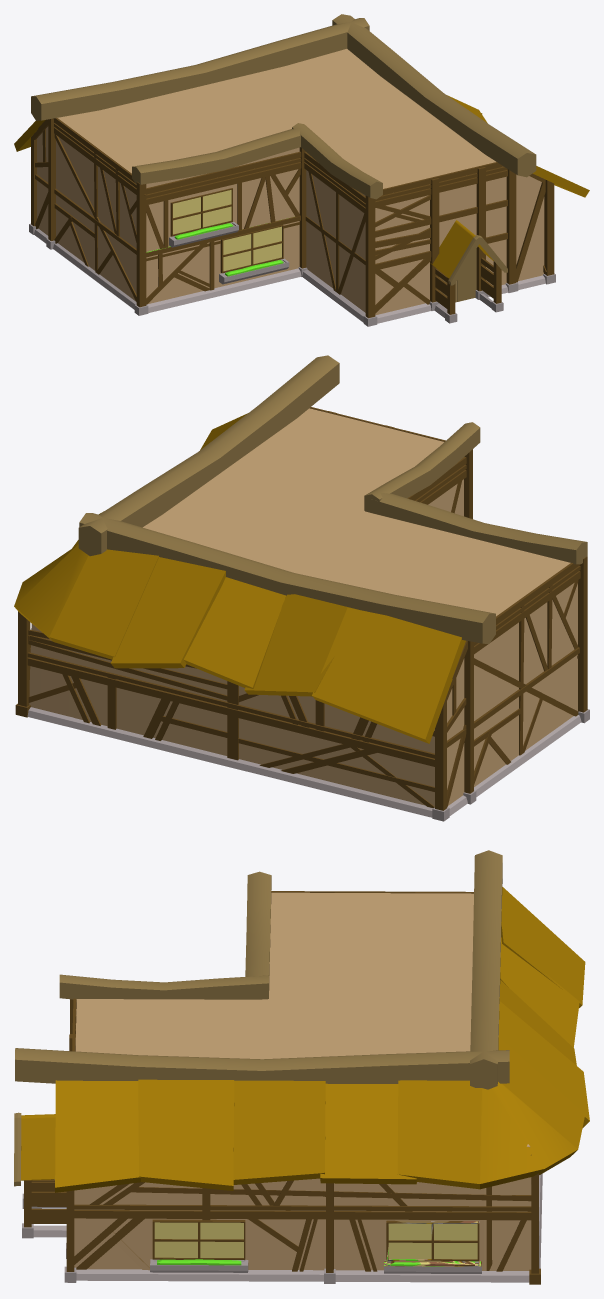
File: mesh_Flat_Roof_Corner.fbx
The picture shows the model from 3 angles, top to bottom: view 1: azimuth 30°, elevation 25°; view 2: azimuth 150°, elevation 25°; view 3: azimuth 270°, elevation 25°; orthographic projection. The views are drawn at different scales.
Parts seen in each view (by area): view 1: Flat_Roof_Corner; view 2: Flat_Roof_Corner; view 3: Flat_Roof_Corner.
Boxes of the visible parts, <box> form: Flat_Roof_Corner: <box>14,14,589,326</box>; Flat_Roof_Corner: <box>14,355,589,821</box>; Flat_Roof_Corner: <box>14,850,589,1284</box>.
Bounding box in the file's own units: 1825 × 696 × 1786.
1 material, 1 textured.
